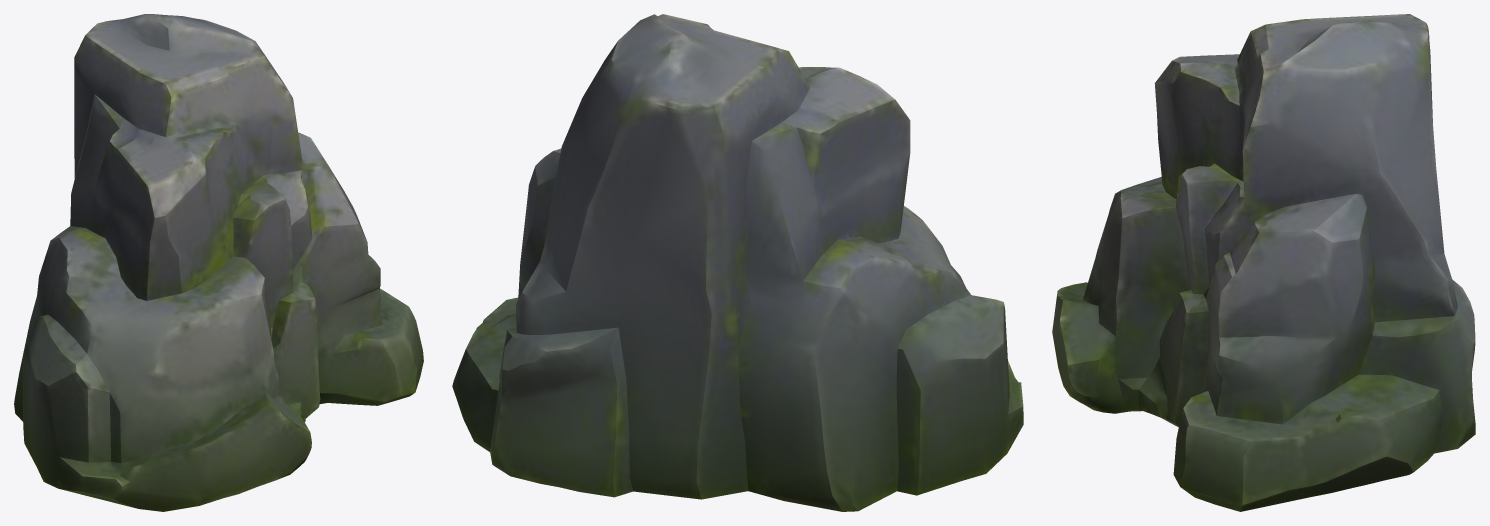
The model's file is Rock_Big_1.glb.
The picture shows the model from 3 angles, left to right: view 1: azimuth 30°, elevation 25°; view 2: azimuth 150°, elevation 25°; view 3: azimuth 270°, elevation 25°; orthographic projection. The views are drawn at different scales.
Parts seen in each view (by area): view 1: Rock_Big_1; view 2: Rock_Big_1; view 3: Rock_Big_1.
Part boxes in pixels (x1,y1,x2,y2): Rock_Big_1: [14, 14, 423, 511]; Rock_Big_1: [452, 14, 1023, 511]; Rock_Big_1: [1052, 14, 1475, 511].
Size of the model in its own units: 5.2 by 4.58 by 4.45.
Materials: 1 (1 with a texture image).
